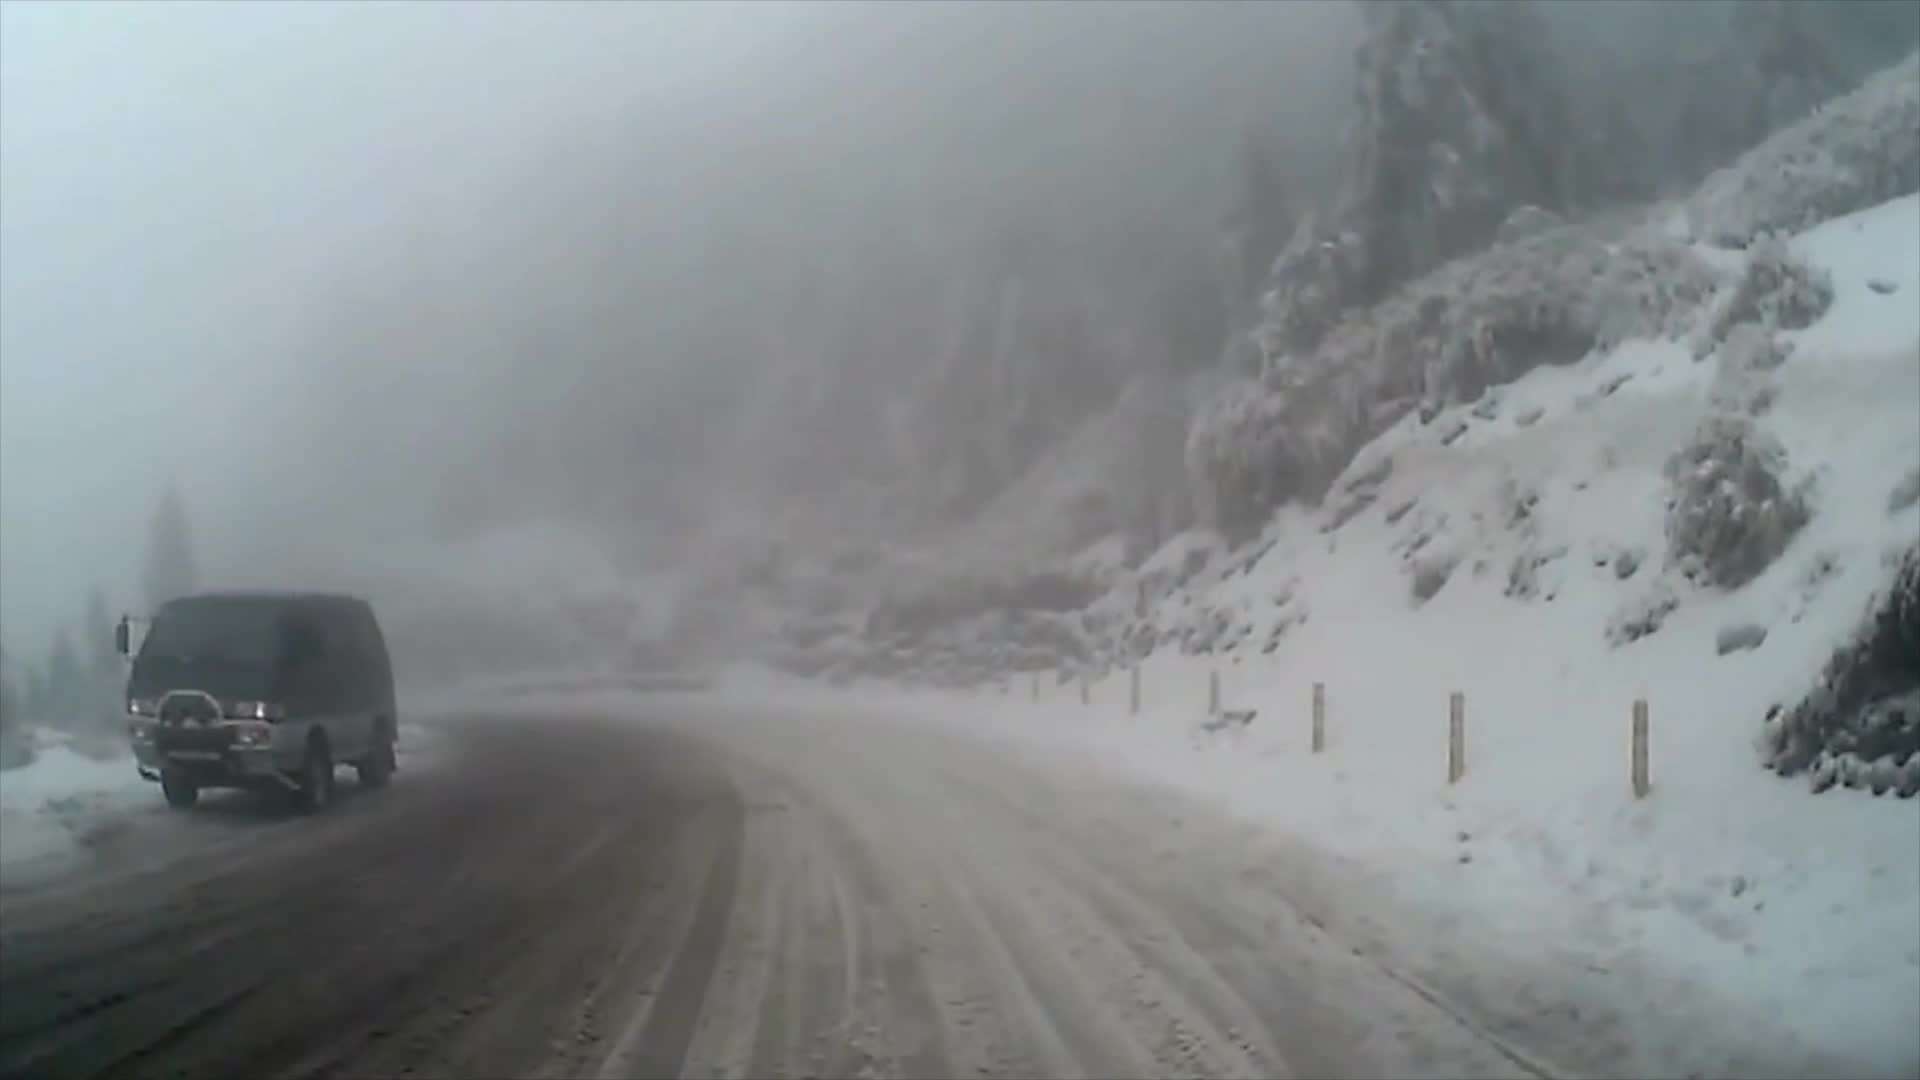vehicle: (112, 591, 400, 818)
